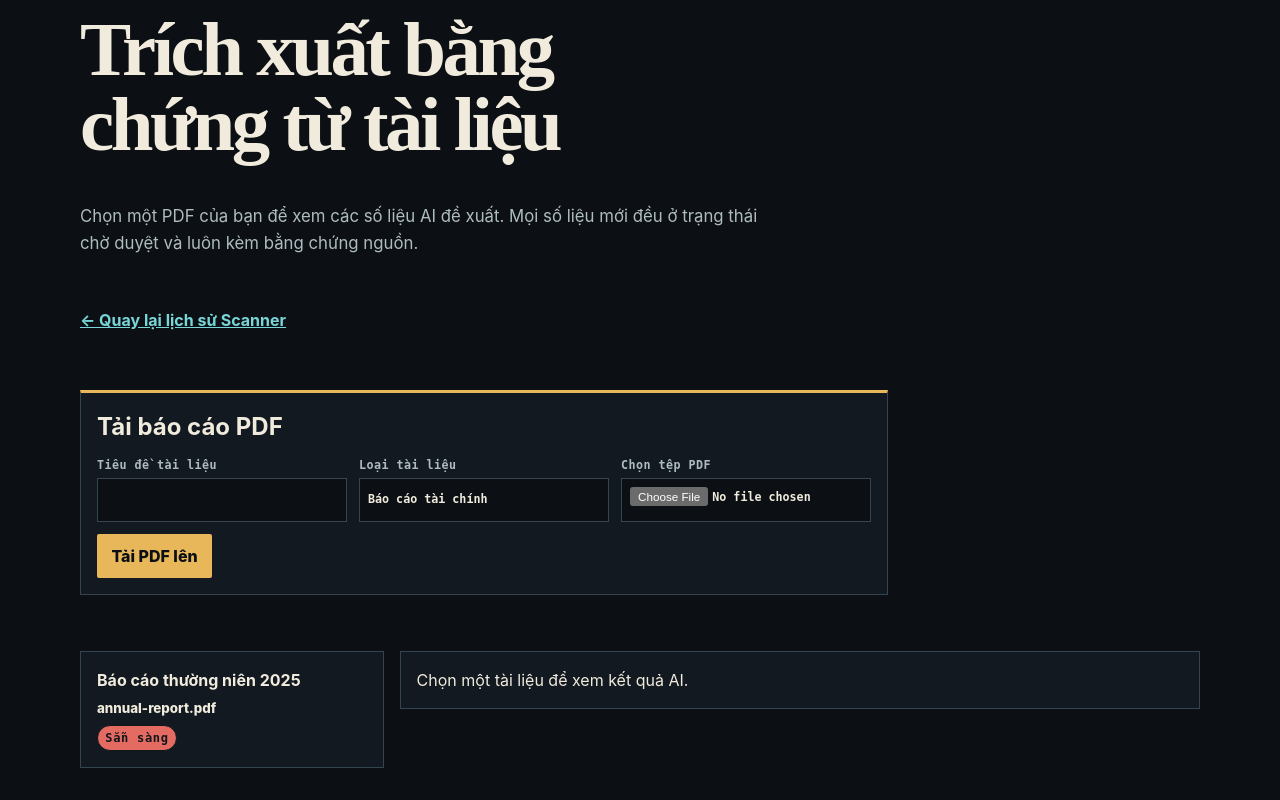
DocumentExtractionPage › shows a pending-review extracted fact with its page evidence
(page scrolled)
Click the button "Báo cáo thường niên 2025 annual-report.pdf Sẵn sàng". click: x=199, y=680
box: [80,651,384,768]
(page scrolled)
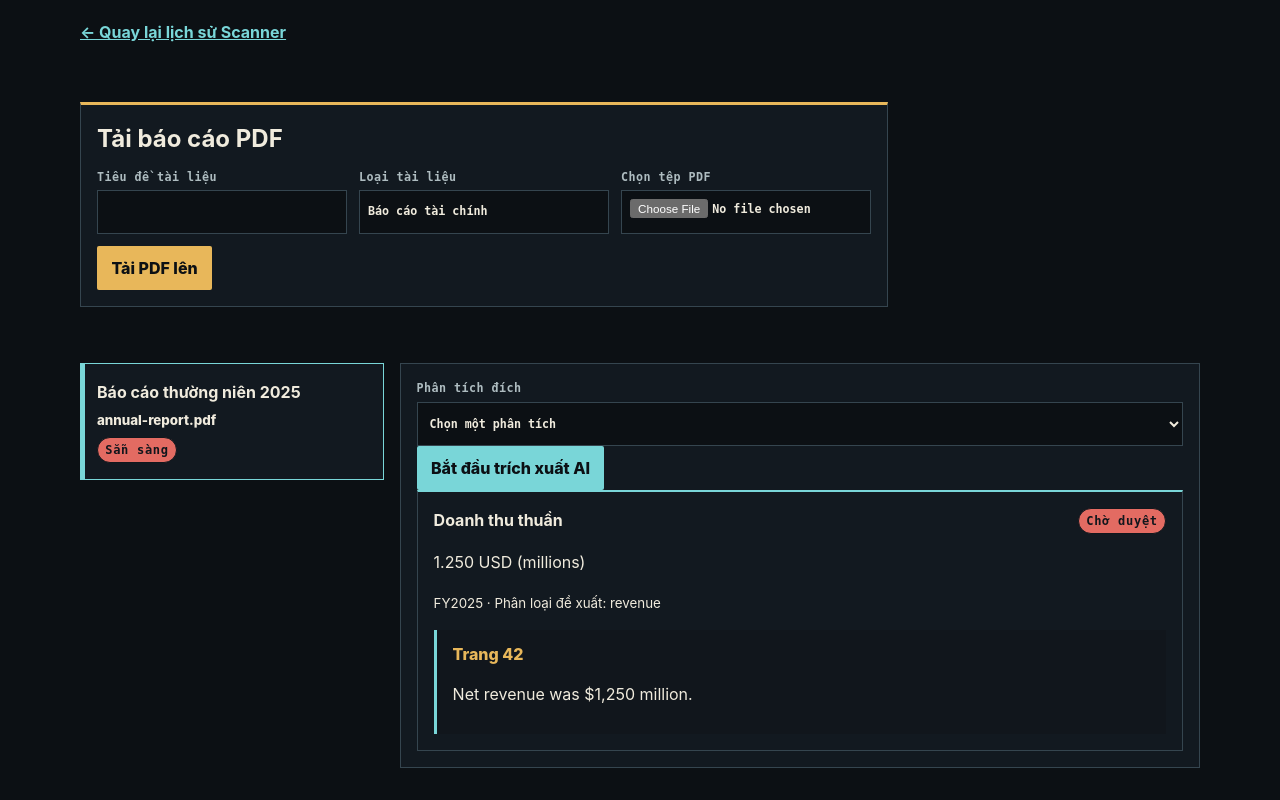
Result: the text "Doanh thu thuần" is shown at [434,508,563,534]
Result: the text "Chờ duyệt" is shown at [1078,508,1166,534]
Result: the text "Trang 42" is shown at [453,644,524,664]
